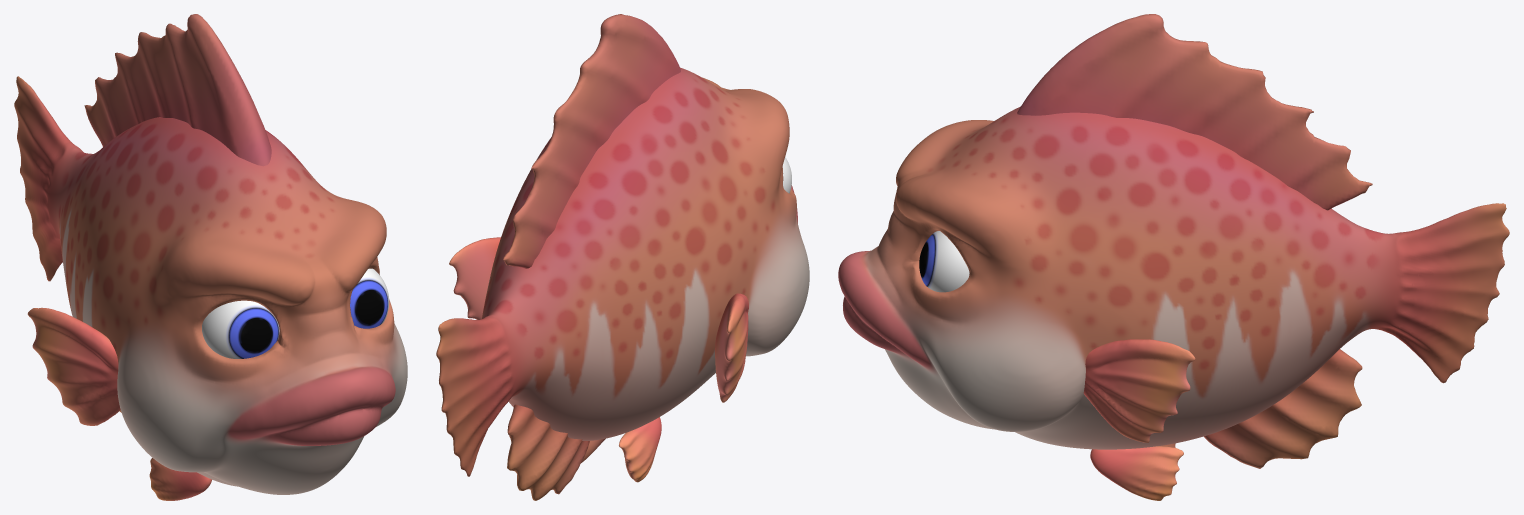
The model's file is Fishes_Little_Red porgy_1_Base.glb.
3 renders of one model, left to right at view 1: azimuth 30°, elevation 25°; view 2: azimuth 150°, elevation 25°; view 3: azimuth 270°, elevation 25°, orthographic. The views are drawn at different scales.
Parts seen in each view (by area): view 1: Sphere.046, Sphere.045, Sphere.044, Little fish 02 Eyes_Base.013, Sphere.047; view 2: Sphere.046, Sphere.045, Sphere.044, Sphere.047; view 3: Sphere.046, Sphere.045, Sphere.044, Sphere.047, Little fish 02 Eyes_Base.013.
Part boxes in pixels (box(x1,y1,x2,y2)): Sphere.046: box(14, 76, 407, 494); Sphere.045: box(84, 14, 271, 412); Sphere.044: box(27, 307, 120, 425); Little fish 02 Eyes_Base.013: box(202, 268, 389, 358); Sphere.047: box(149, 458, 211, 500); Sphere.046: box(436, 67, 809, 476); Sphere.045: box(503, 14, 680, 500); Sphere.044: box(449, 237, 748, 402); Sphere.047: box(581, 417, 661, 482); Sphere.046: box(838, 106, 1509, 449); Sphere.045: box(1017, 14, 1372, 468); Sphere.044: box(1083, 339, 1195, 442); Sphere.047: box(1090, 443, 1183, 500); Little fish 02 Eyes_Base.013: box(919, 231, 969, 292).
Bounding box in the file's own units: 0.4644 × 0.717 × 0.9289.
